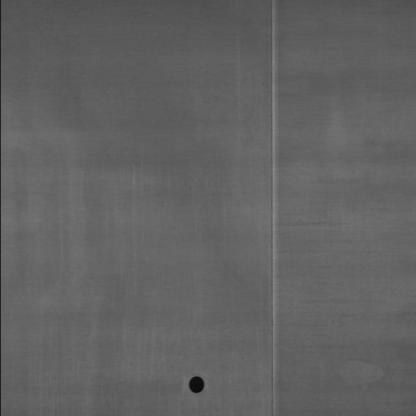punching_hole: (182, 374, 211, 395)
welding_line: (253, 1, 285, 414)
